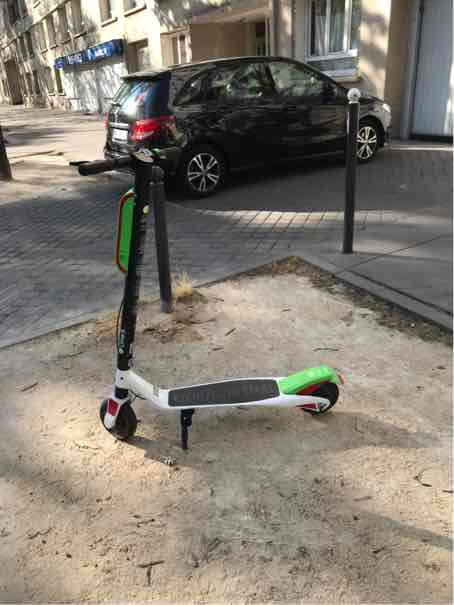scooter: (80, 134, 352, 454)
